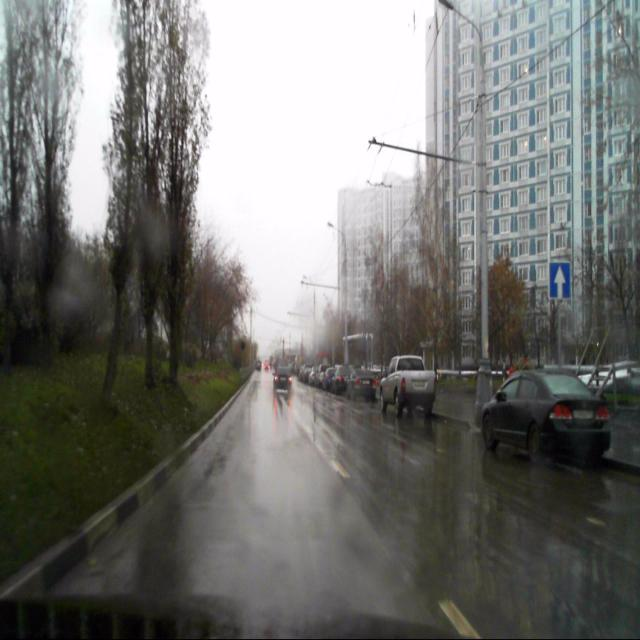road sign: (548, 261, 570, 300)
